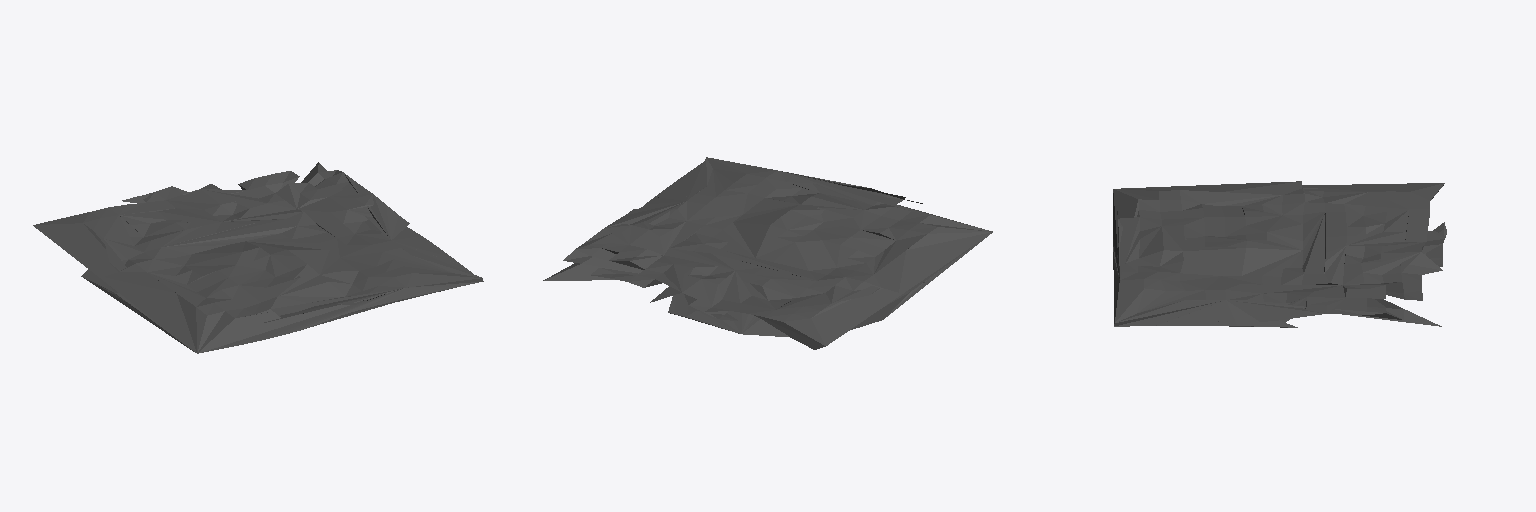
File: debris.obj
3 renders of one model, left to right at view 1: azimuth 30°, elevation 25°; view 2: azimuth 150°, elevation 25°; view 3: azimuth 270°, elevation 25°, orthographic.
Visible parts, largest first — view 1: Cube; view 2: Cube; view 3: Cube.
Boxes of the visible parts, x1,y1,x2,y2 form: Cube: [33, 162, 483, 353]; Cube: [543, 157, 992, 349]; Cube: [1113, 181, 1446, 327].
Size of the model in its own units: 1.02 by 0.1066 by 1.02.